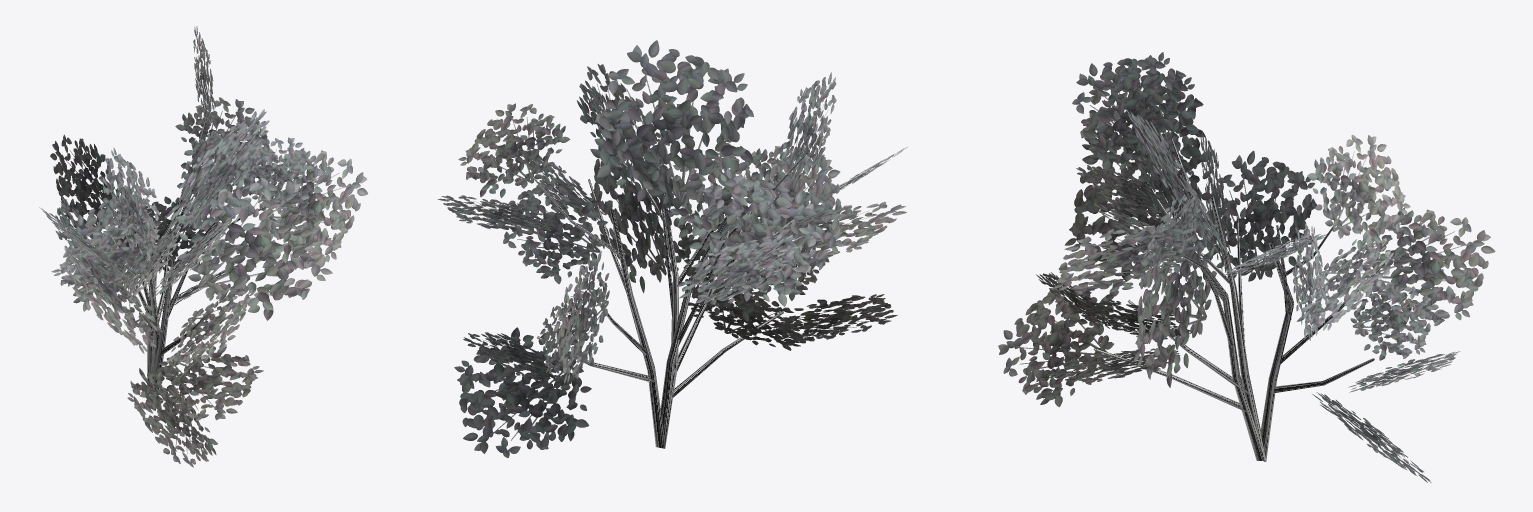
File: shrub_twig_l1.gltf
3 renders of one model, left to right at view 1: azimuth 30°, elevation 25°; view 2: azimuth 150°, elevation 25°; view 3: azimuth 270°, elevation 25°, orthographic. The views are drawn at different scales.
Parts seen in each view (by area): view 1: shrub_twig_l1; view 2: shrub_twig_l1; view 3: shrub_twig_l1.
Boxes of the visible parts, box(x1,y1,x2,y2) form: shrub_twig_l1: box(39, 26, 367, 467); shrub_twig_l1: box(437, 40, 907, 457); shrub_twig_l1: box(998, 52, 1495, 482).
Size of the model in its own units: 1.83 by 1.67 by 2.08.
2 materials, 2 textured.
